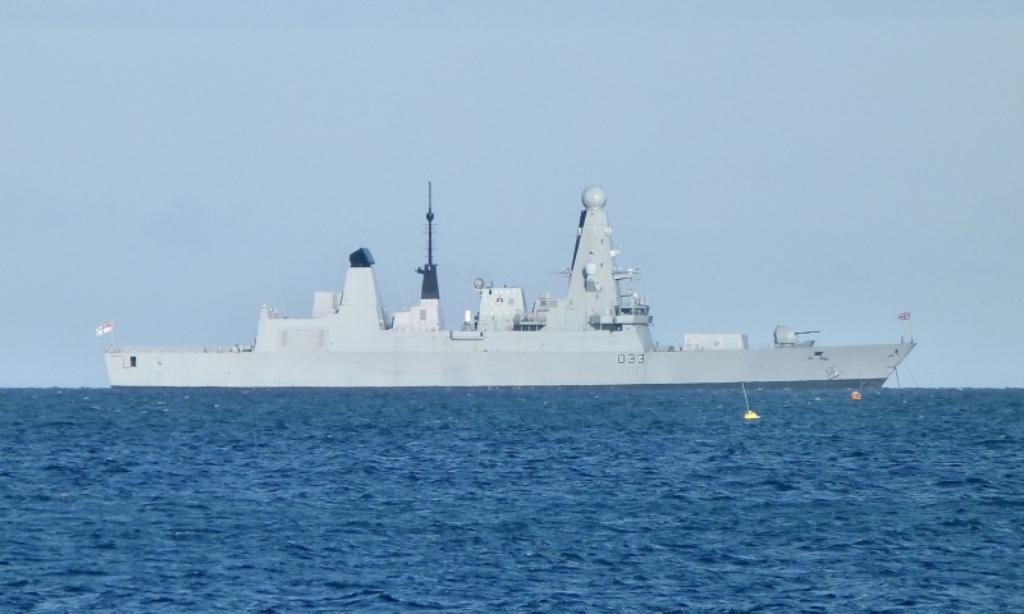Warship: (100, 176, 922, 393)
